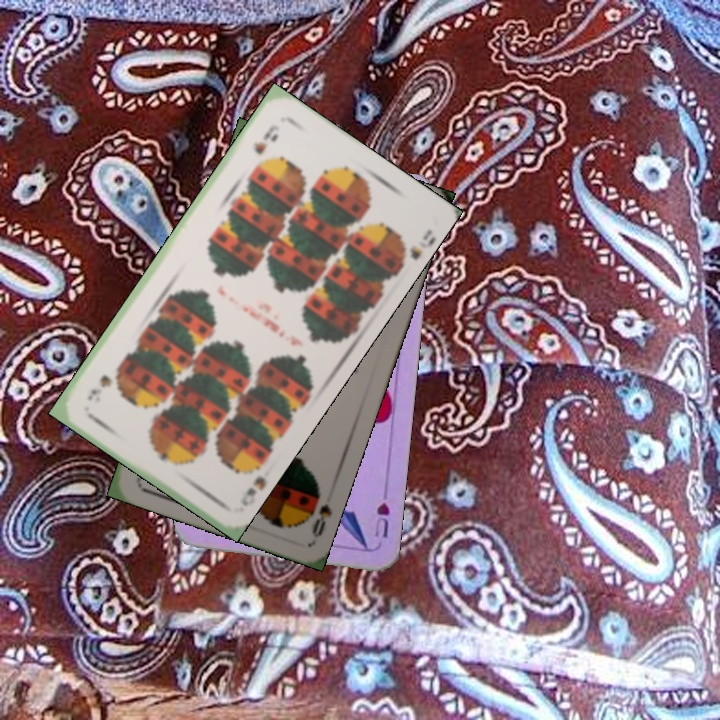HU: (371, 487, 392, 541)
S9: (236, 455, 267, 509), (249, 120, 283, 158)
SO: (308, 499, 334, 540)
